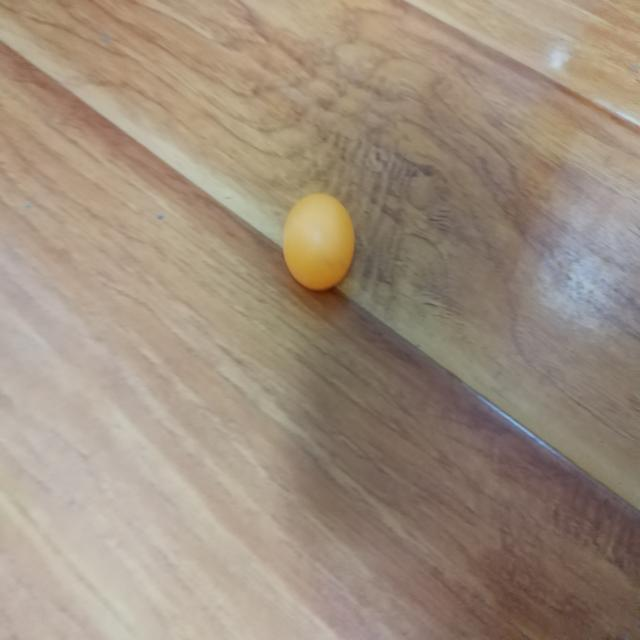oball: (282, 194, 356, 290)
